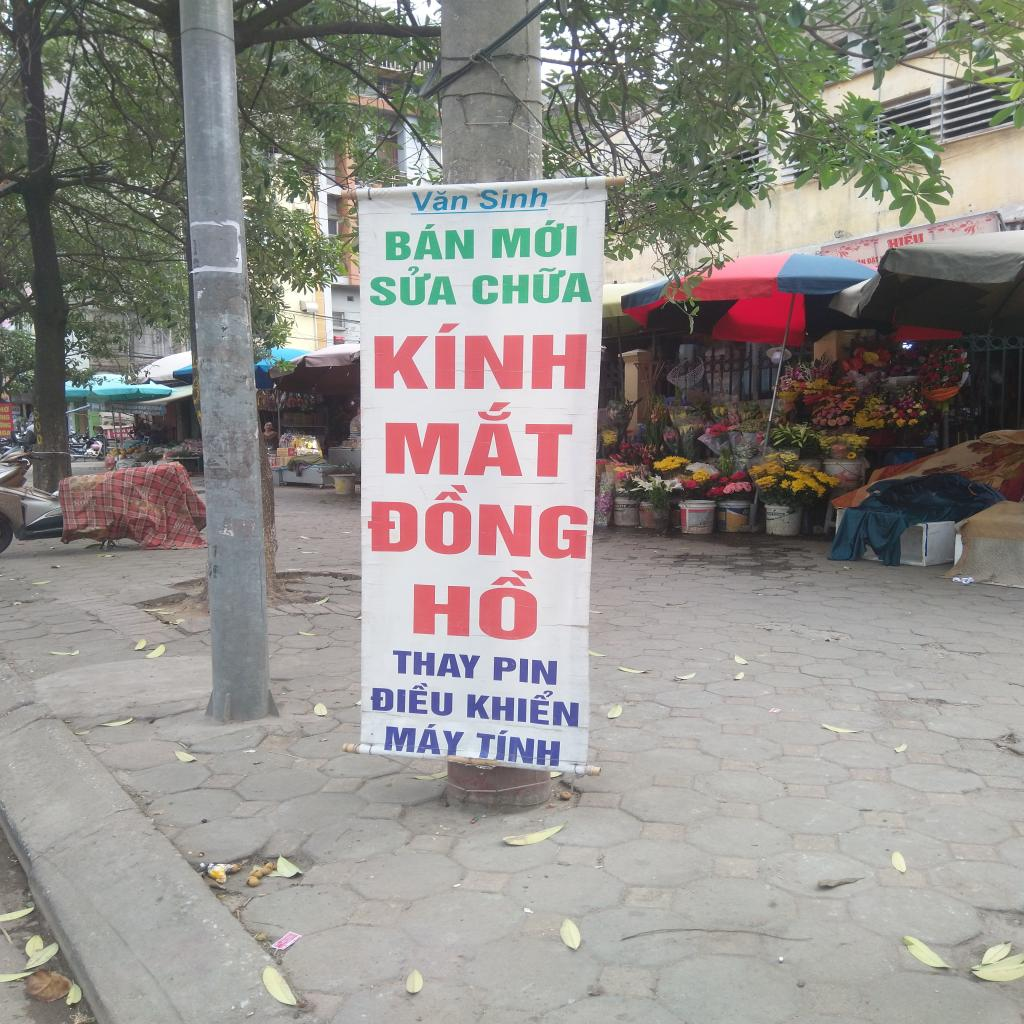text: (364, 484, 590, 562), (380, 401, 575, 480), (371, 321, 590, 391), (408, 567, 543, 643), (469, 263, 596, 305), (465, 685, 582, 729), (380, 221, 478, 262), (369, 264, 459, 306), (490, 218, 578, 260), (368, 679, 454, 718), (382, 720, 470, 758), (392, 650, 482, 680), (473, 184, 555, 212), (492, 656, 558, 686), (408, 188, 470, 214), (884, 227, 928, 252), (170, 518, 198, 534), (130, 486, 156, 502), (72, 498, 100, 508), (864, 253, 882, 267), (34, 421, 43, 433), (35, 433, 44, 445), (33, 406, 40, 418)
